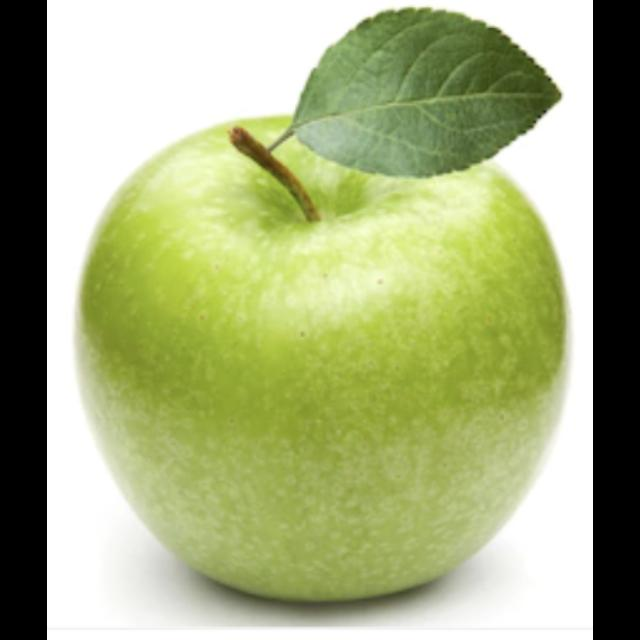Apel Segar: (73, 107, 567, 603)
